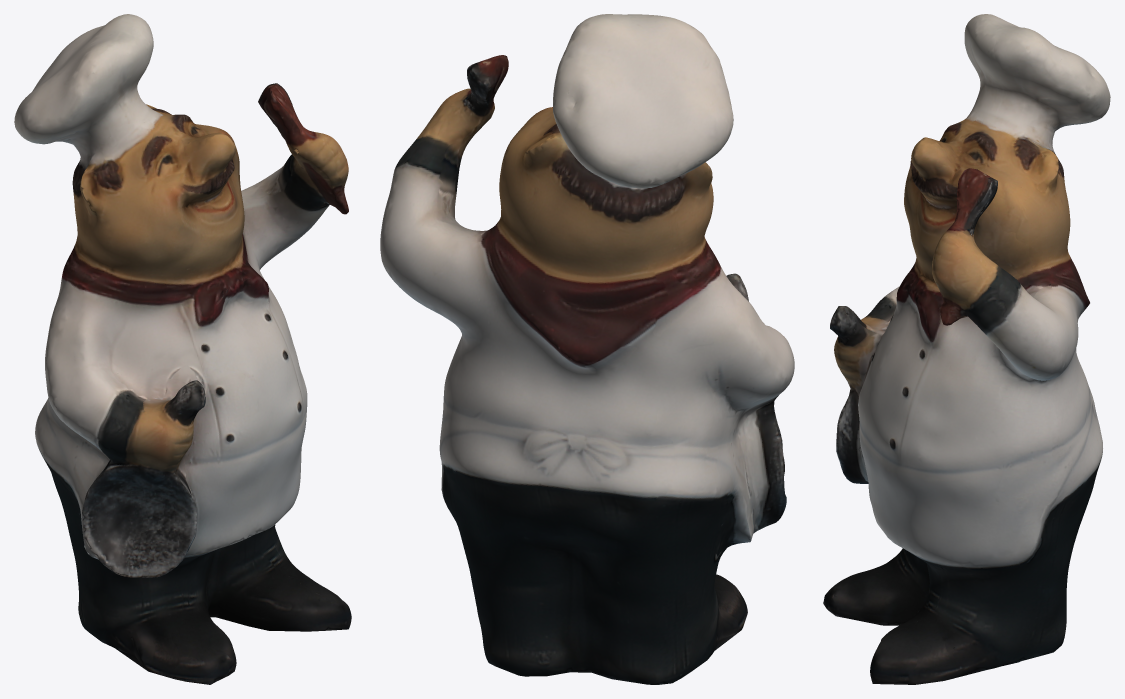
File: Chef.fbx
3 renders of one model, left to right at view 1: azimuth 30°, elevation 25°; view 2: azimuth 150°, elevation 25°; view 3: azimuth 270°, elevation 25°, orthographic. The views are drawn at different scales.
Visible parts, largest first — view 1: Stereo textured mesh; view 2: Stereo textured mesh; view 3: Stereo textured mesh.
Part boxes in pixels (left/top/right/bottom): Stereo textured mesh: left=14, top=14, right=351, bottom=684; Stereo textured mesh: left=380, top=14, right=794, bottom=684; Stereo textured mesh: left=823, top=14, right=1110, bottom=684.
Size of the model in its own units: 555 by 1000 by 446.
1 material, 1 textured.
